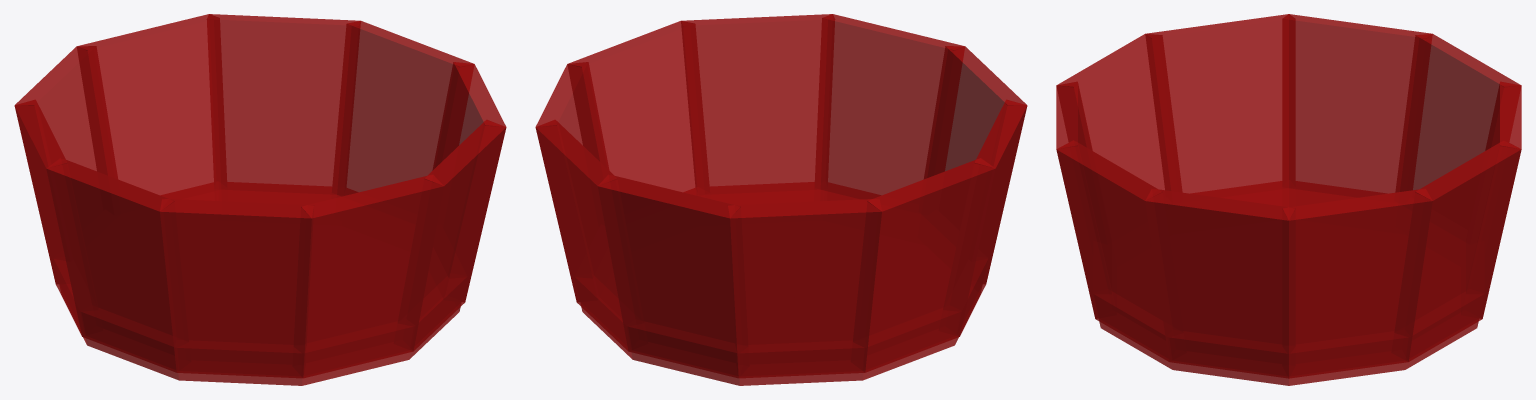
File: SM_Prop_Wooden_Bath_01_Collision.fbx
3 views of the same model, side by side, from view 1: azimuth 30°, elevation 25°; view 2: azimuth 150°, elevation 25°; view 3: azimuth 270°, elevation 25° (orthographic).
Parts seen in each view (by area): view 1: SM_Prop_Wooden_Bath_01_Collision; view 2: SM_Prop_Wooden_Bath_01_Collision; view 3: SM_Prop_Wooden_Bath_01_Collision.
Part boxes in pixels (x1,y1,x2,y2): SM_Prop_Wooden_Bath_01_Collision: [14, 14, 506, 385]; SM_Prop_Wooden_Bath_01_Collision: [535, 14, 1027, 385]; SM_Prop_Wooden_Bath_01_Collision: [1056, 14, 1521, 385].
Size of the model in its own units: 139 by 59.29 by 132.
